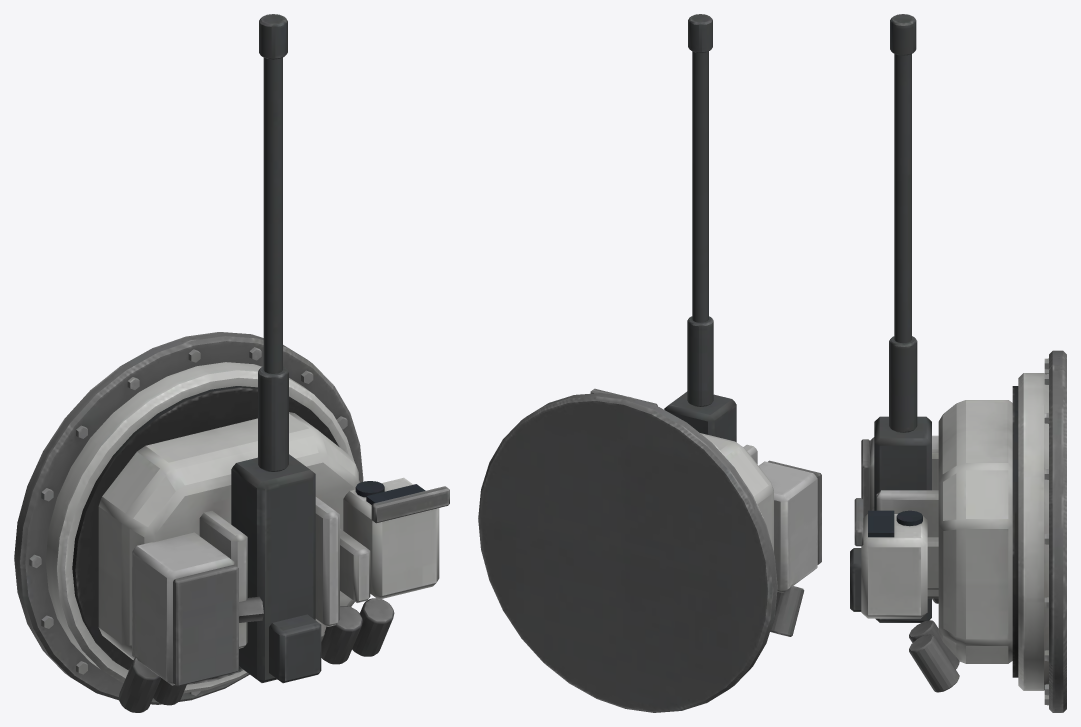
File: rws.glb
3 renders of one model, left to right at view 1: azimuth 30°, elevation 25°; view 2: azimuth 150°, elevation 25°; view 3: azimuth 270°, elevation 25°, orthographic. The views are drawn at different scales.
Visible parts, largest first — view 1: rws; view 2: rws; view 3: rws.
Boxes of the visible parts, x1,y1,x2,y2 form: rws: [14, 14, 449, 712]; rws: [478, 14, 821, 712]; rws: [850, 14, 1066, 712].
Bounding box in the file's own units: 0.8199 × 1.69 × 0.49.
Materials: 1 (1 with a texture image).
